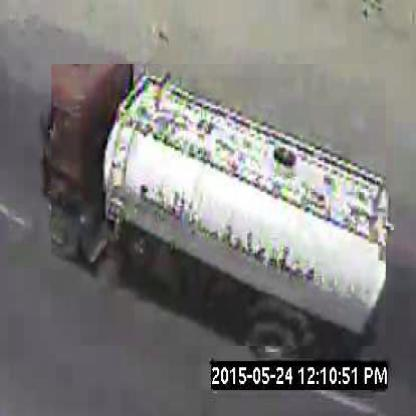truck: (52, 65, 388, 348)
